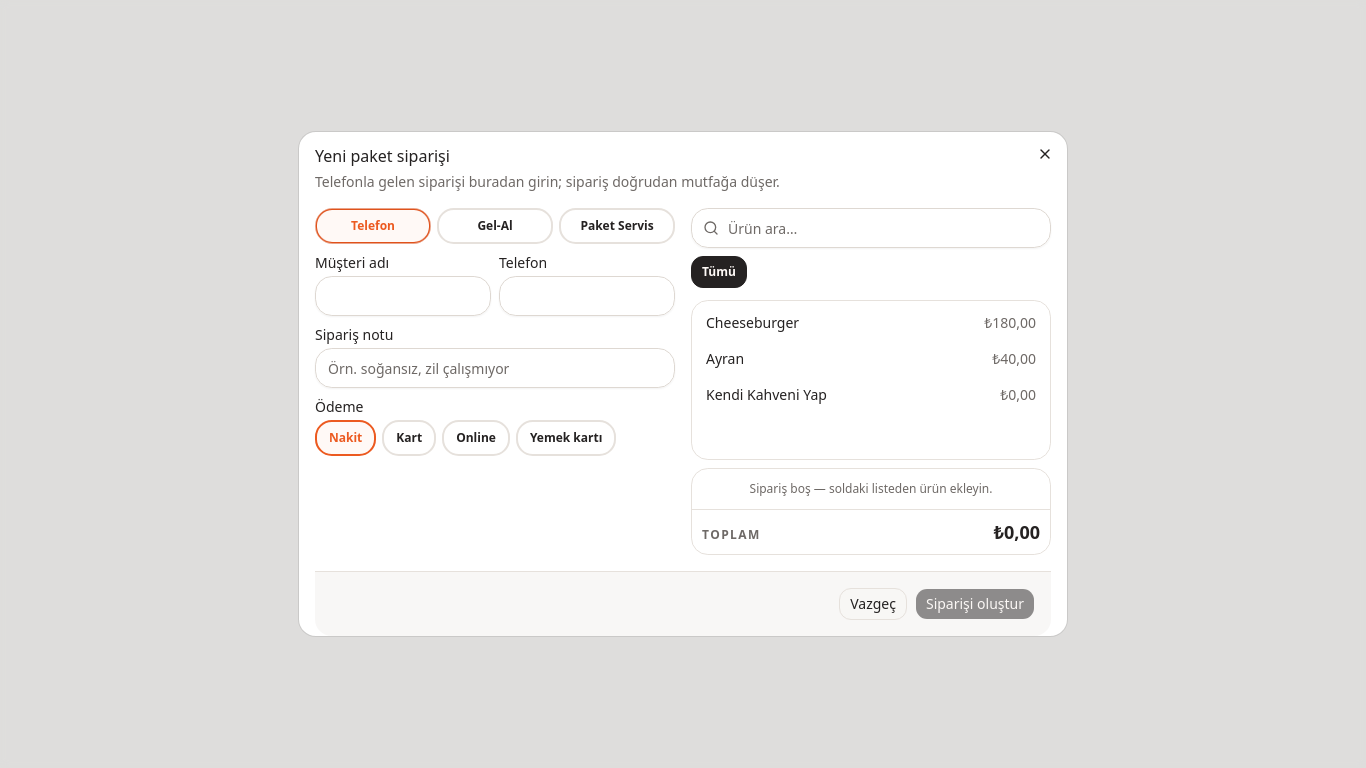
Scenario: NewDeliveryOrderDialog › blocks a courier order until an address is entered
Click the text "Cheeseburger": (753, 323) [706,313,799,333]
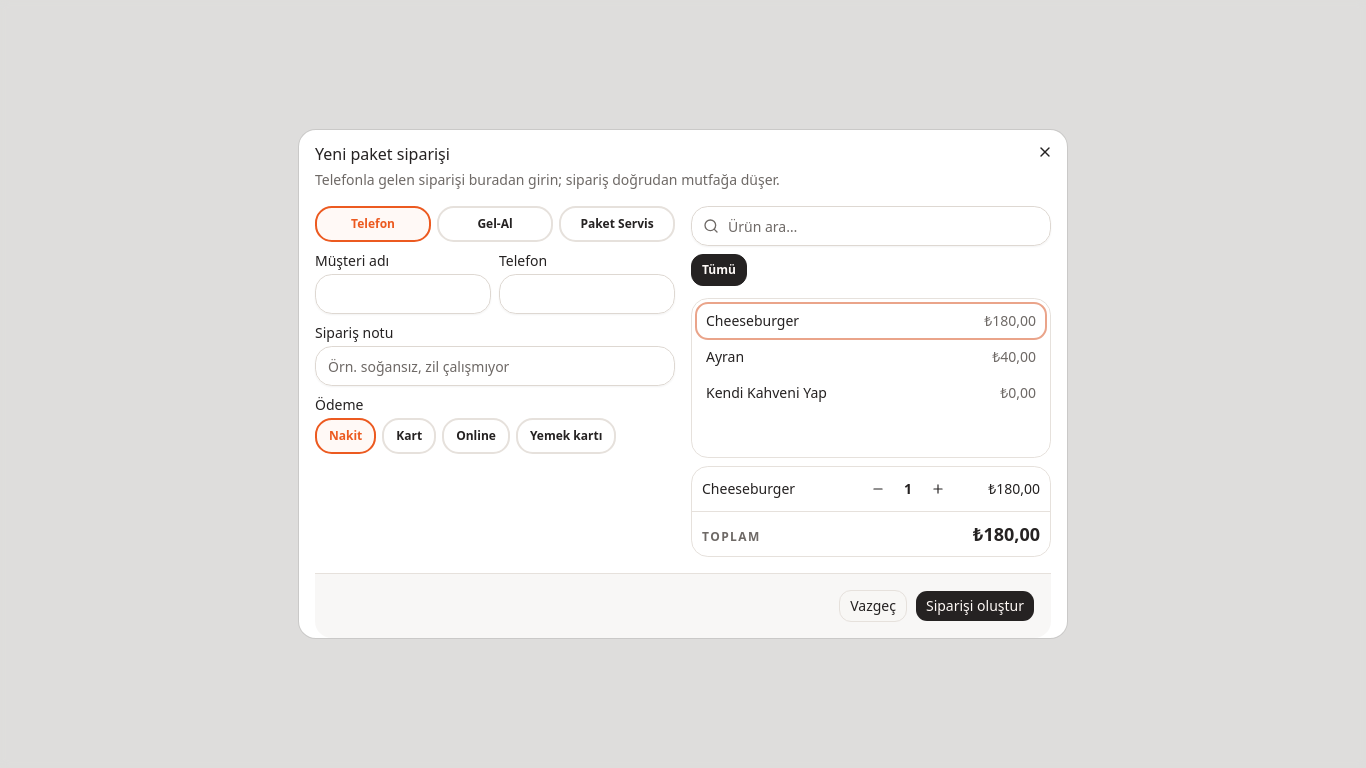
Click the button "Paket Servis": (617, 224) [559,206,675,242]
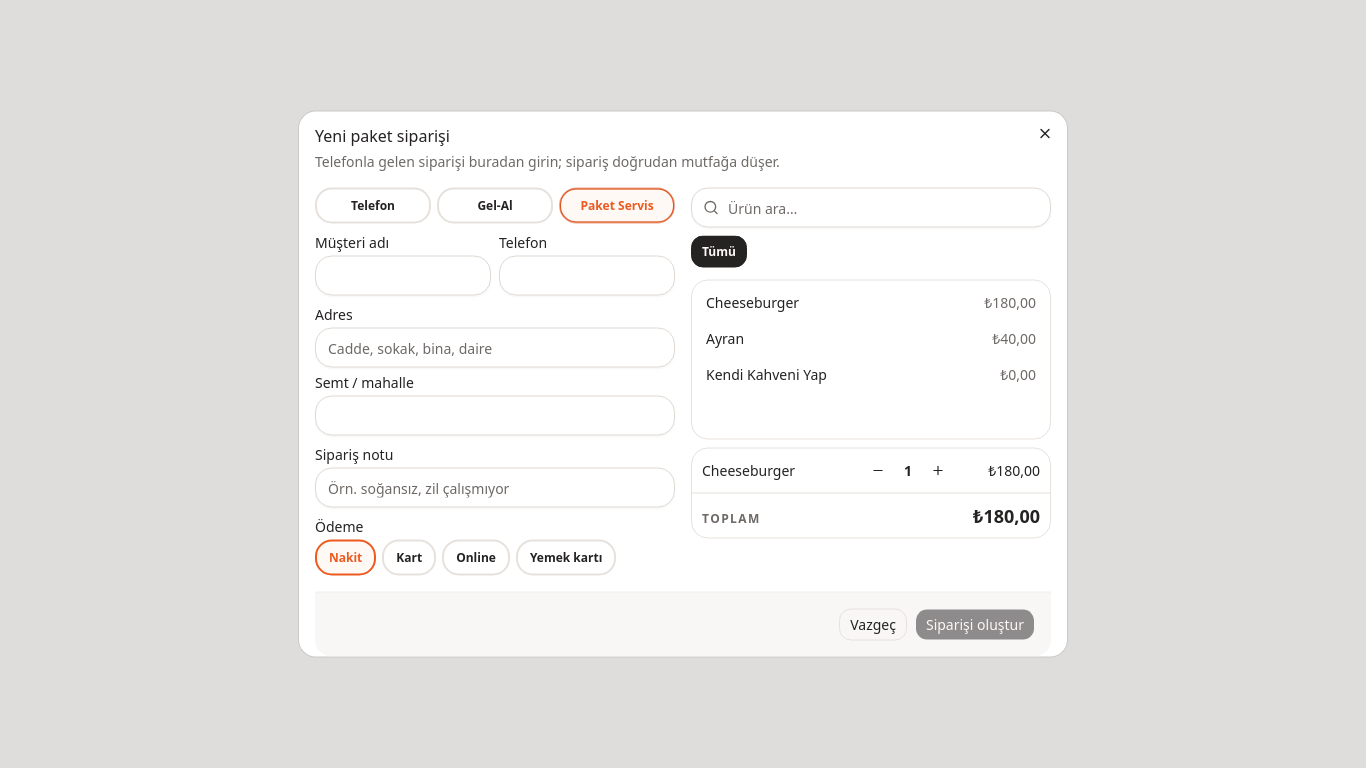
Check: the button "Siparişi oluştur" is disabled, box [915,608,1035,640]
In the field labelled "Adres": (495, 348) [315,328,675,368], type "Bağdat Cad. No:5"
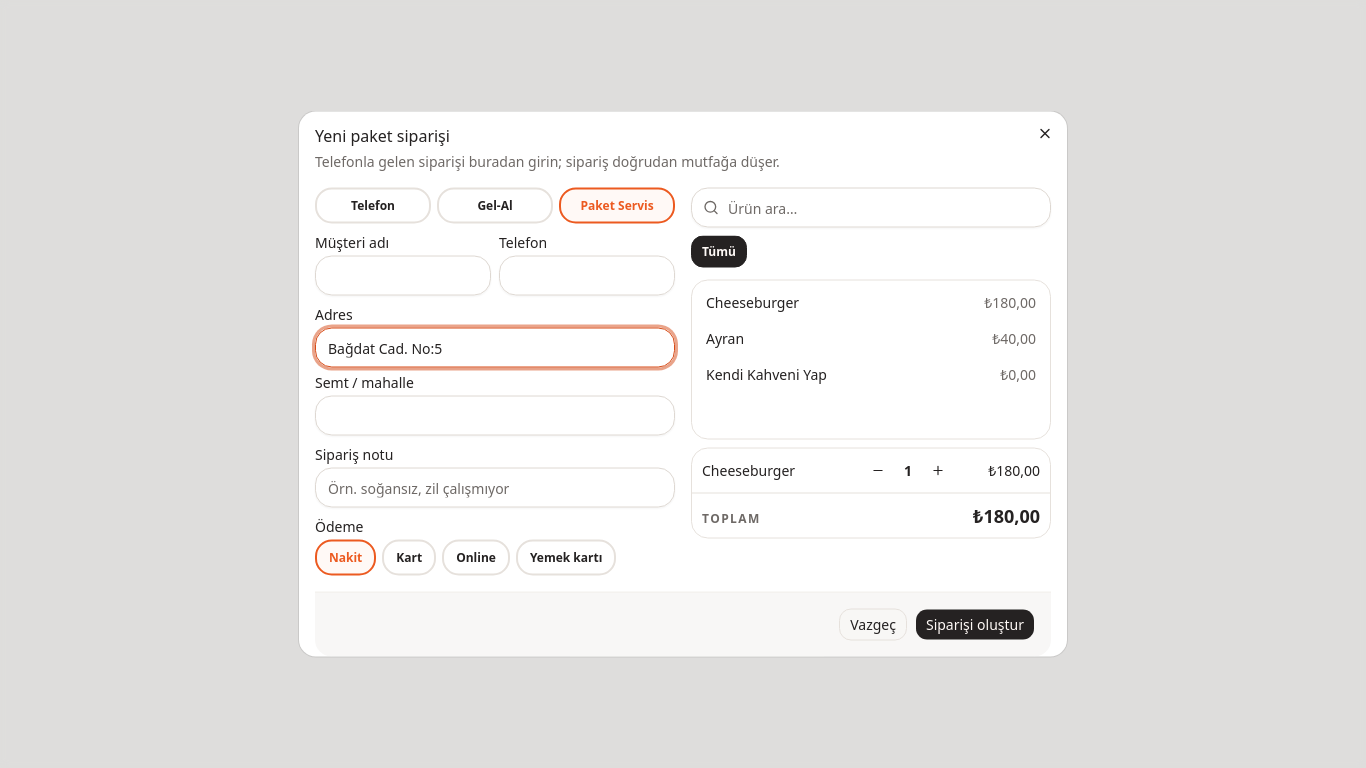
Check: the button "Siparişi oluştur" is enabled, box [915,608,1035,640]
